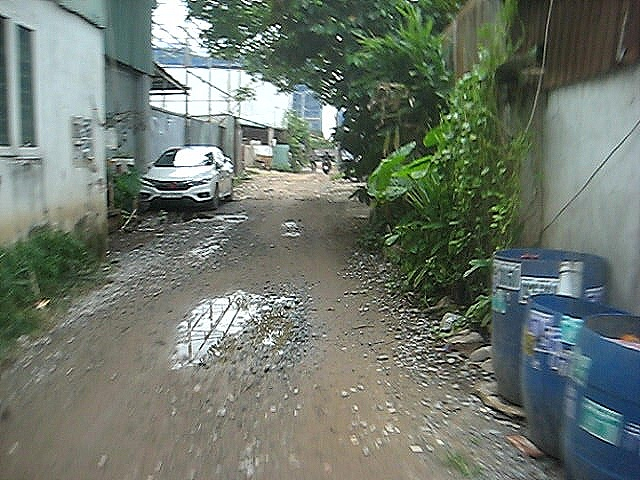hole: (163, 280, 324, 391), (189, 232, 229, 264), (171, 211, 249, 225), (280, 217, 300, 228), (280, 229, 303, 238)
